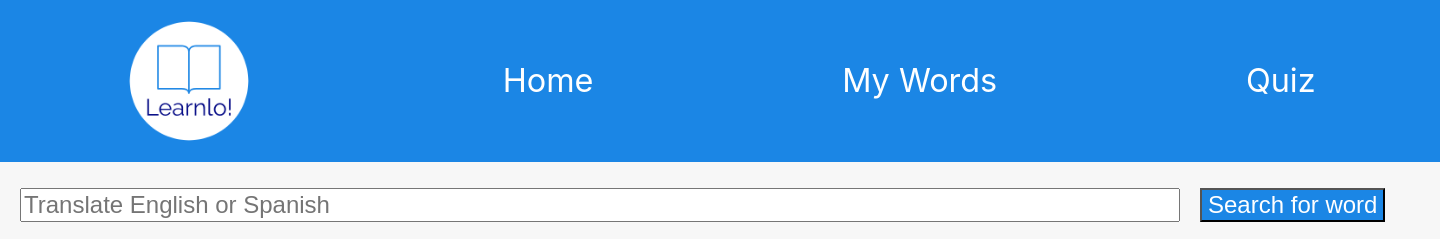
App › Router works › Should render Quiz correctly
The image size is (1440, 239).
What coordinates should you click on to do the following:
click the link "Quiz"
I would click on:
 (1281, 81)
Its box is [1246,61,1316,100].
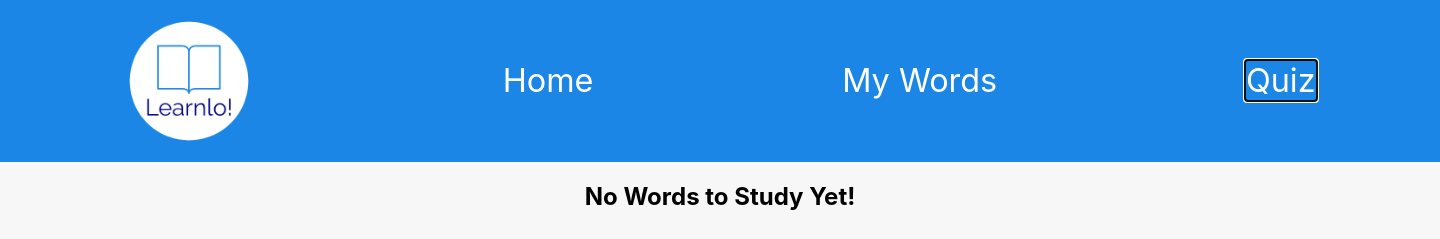
Expected: the heading "No Words to Study Yet!" is shown, [585,182,855,210]
